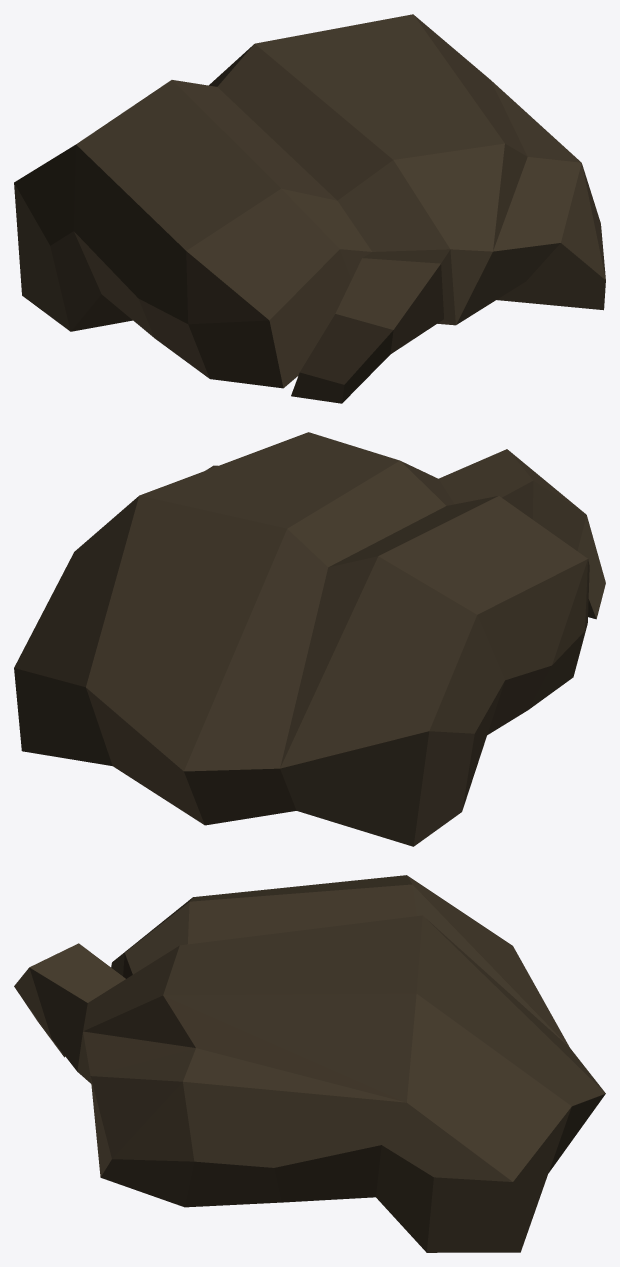
Rendered from SM_Chr_Attach_Hair_Male_08.fbx.
The picture shows the model from 3 angles, top to bottom: view 1: azimuth 30°, elevation 25°; view 2: azimuth 150°, elevation 25°; view 3: azimuth 270°, elevation 25°; orthographic projection. The views are drawn at different scales.
Parts seen in each view (by area): view 1: SM_Chr_Attach_Hair_Male_08; view 2: SM_Chr_Attach_Hair_Male_08; view 3: SM_Chr_Attach_Hair_Male_08.
Part boxes in pixels (box(x1,y1,x2,y2)): SM_Chr_Attach_Hair_Male_08: box(14, 14, 605, 403); SM_Chr_Attach_Hair_Male_08: box(14, 432, 605, 846); SM_Chr_Attach_Hair_Male_08: box(14, 875, 605, 1252).
Bounding box in the file's own units: 24.63 × 13.9 × 29.73.
